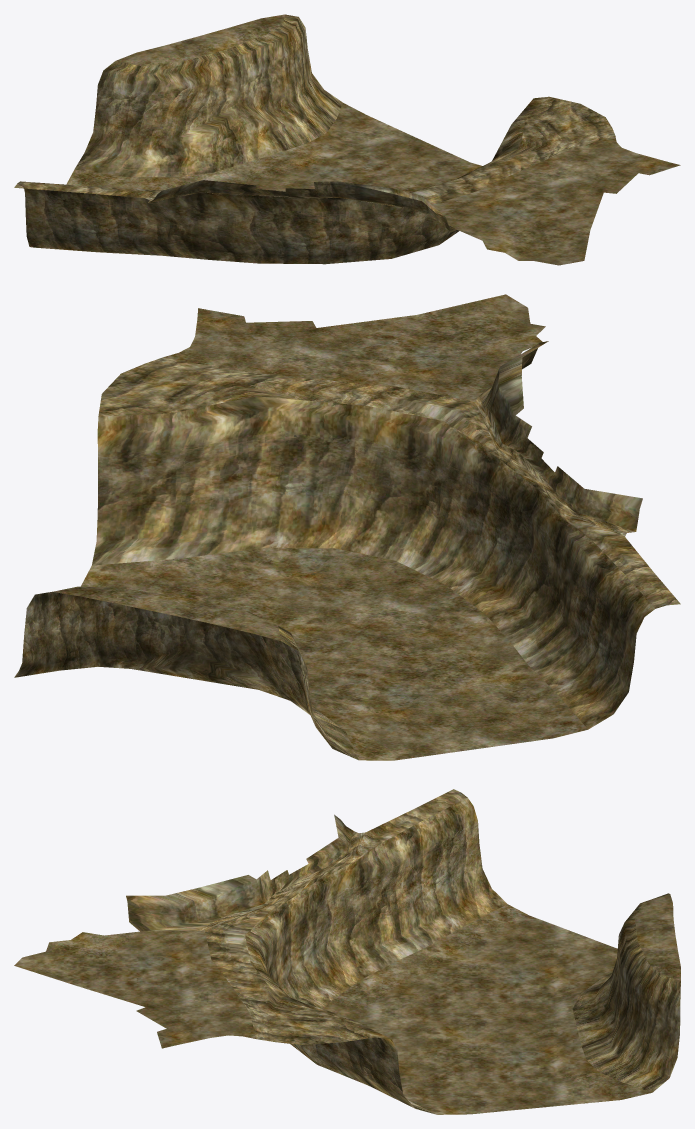
Rendered from RM_PLAYSURFACE_FINAL_MESH02.fbx.
3 renders of one model, top to bottom at view 1: azimuth 30°, elevation 25°; view 2: azimuth 150°, elevation 25°; view 3: azimuth 270°, elevation 25°, orthographic. The views are drawn at different scales.
Parts seen in each view (by area): view 1: RM_PLAYSURFACE_FINAL_MESH02; view 2: RM_PLAYSURFACE_FINAL_MESH02; view 3: RM_PLAYSURFACE_FINAL_MESH02.
Part boxes in pixels (<box>): RM_PLAYSURFACE_FINAL_MESH02: <box>14,14,680,265</box>; RM_PLAYSURFACE_FINAL_MESH02: <box>14,294,680,760</box>; RM_PLAYSURFACE_FINAL_MESH02: <box>14,789,680,1114</box>.
Bounding box in the file's own units: 228162 × 49527 × 247767.
Materials: 4 (4 with a texture image).
